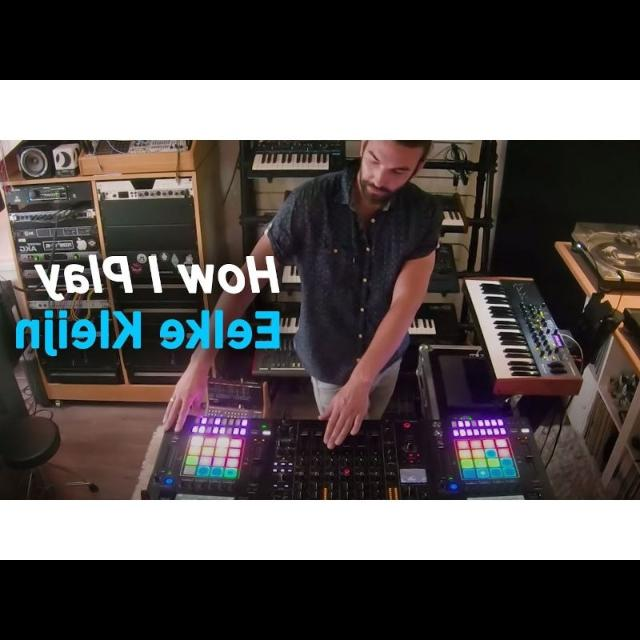Electronic-Keyboard: (456, 261, 592, 407), (228, 146, 330, 168)
